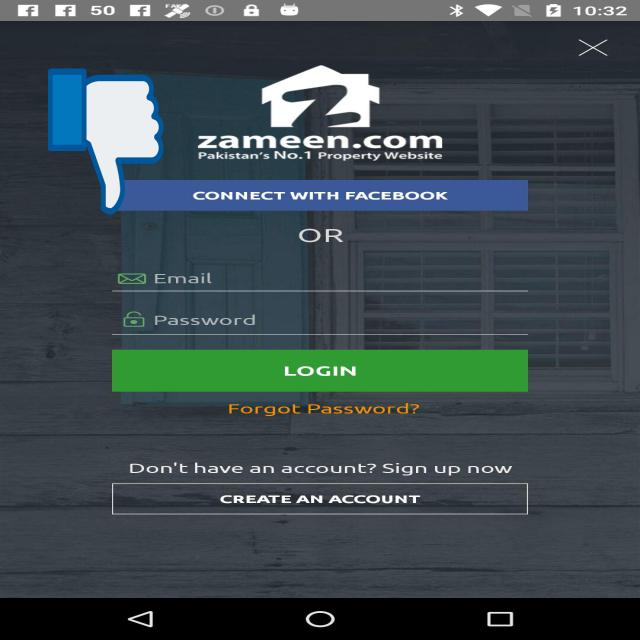obstruction: (48, 65, 164, 218)
